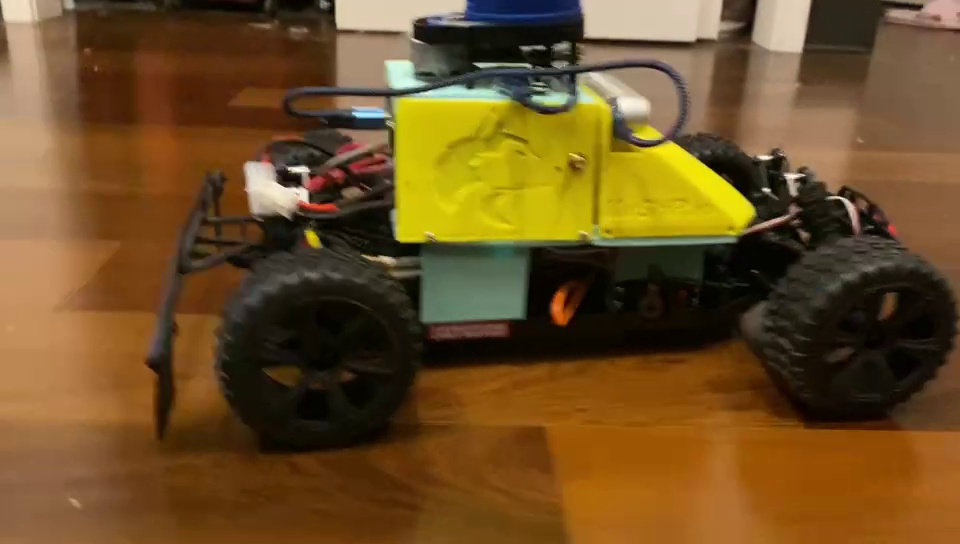mushr_car: (149, 1, 960, 442)
